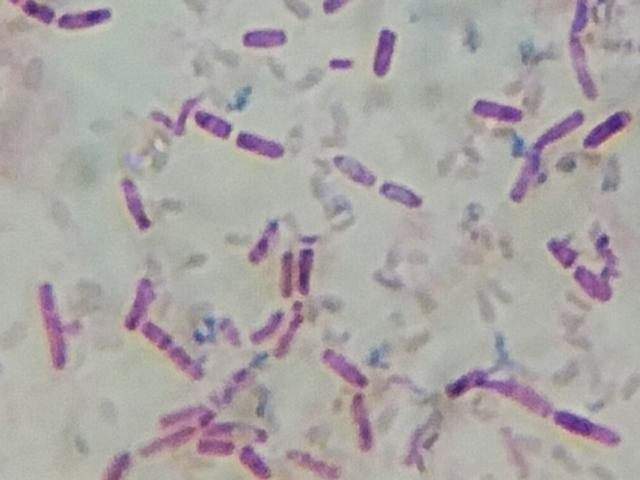E. coli: (445, 366, 547, 414), (147, 321, 207, 381), (563, 0, 600, 93), (555, 400, 624, 445), (38, 284, 71, 375), (469, 90, 529, 124), (514, 135, 542, 205), (240, 124, 286, 166), (588, 98, 630, 142), (122, 176, 154, 232), (324, 339, 362, 384), (350, 390, 378, 451), (536, 105, 581, 142), (243, 20, 289, 53), (155, 102, 194, 140), (336, 152, 375, 188), (194, 105, 229, 143), (134, 271, 154, 335), (373, 24, 395, 82), (146, 429, 195, 454), (57, 8, 115, 29), (382, 179, 419, 210), (242, 441, 266, 479), (252, 221, 274, 262), (302, 244, 319, 295), (22, 0, 51, 27), (256, 310, 282, 340), (325, 55, 362, 76), (278, 249, 294, 296), (284, 310, 298, 357), (234, 365, 255, 396), (580, 260, 599, 294), (549, 238, 572, 266), (162, 404, 204, 419), (105, 448, 123, 480), (198, 439, 230, 455)
